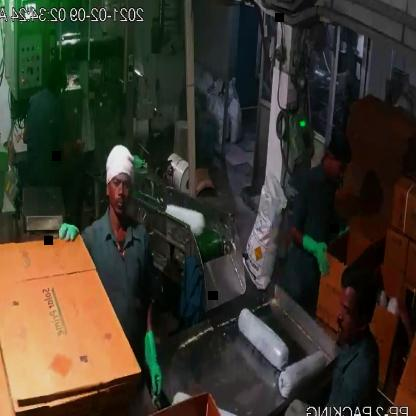glove: (137, 318, 171, 403), (291, 228, 342, 277), (53, 215, 83, 248)
